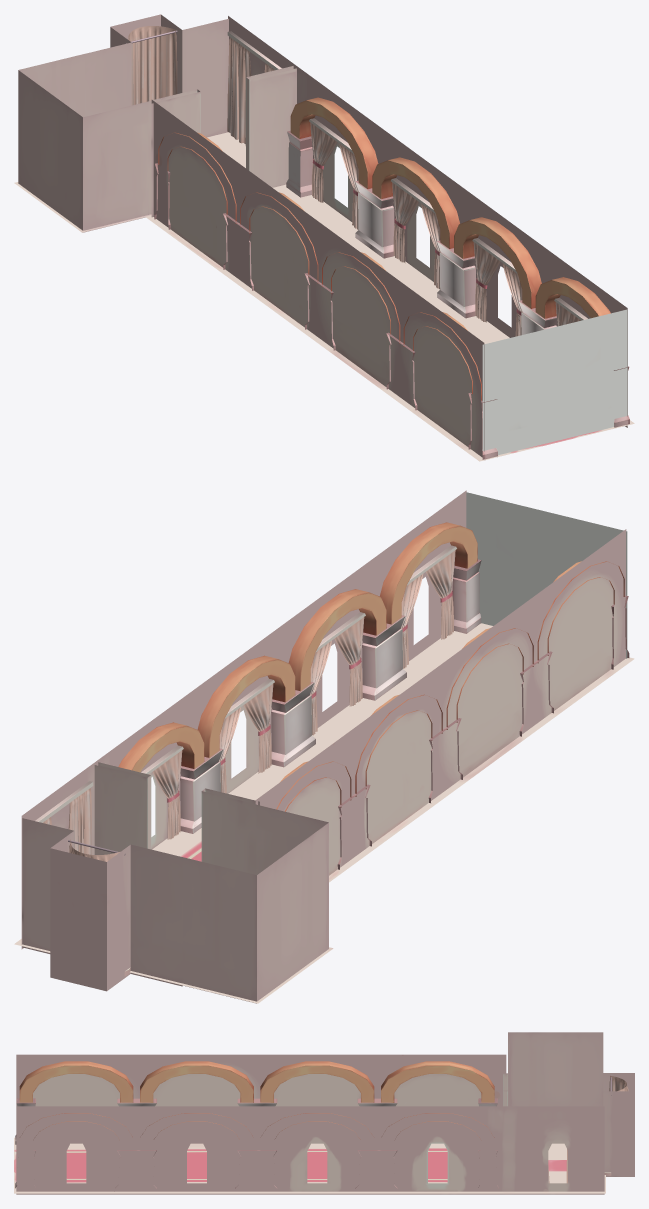
The model's file is bogdo.fbx.
The picture shows the model from 3 angles, top to bottom: view 1: azimuth 30°, elevation 25°; view 2: azimuth 150°, elevation 25°; view 3: azimuth 270°, elevation 25°; orthographic projection. The views are drawn at different scales.
Visible parts, largest first — view 1: Plane001; view 2: Plane001; view 3: Plane001.
Part boxes in pixels (left/top/right/bottom): Plane001: left=14, top=14, right=634, bottom=461; Plane001: left=14, top=490, right=634, bottom=1003; Plane001: left=14, top=1032, right=634, bottom=1194.
Size of the model in its own units: 1333 by 699 by 4444.
